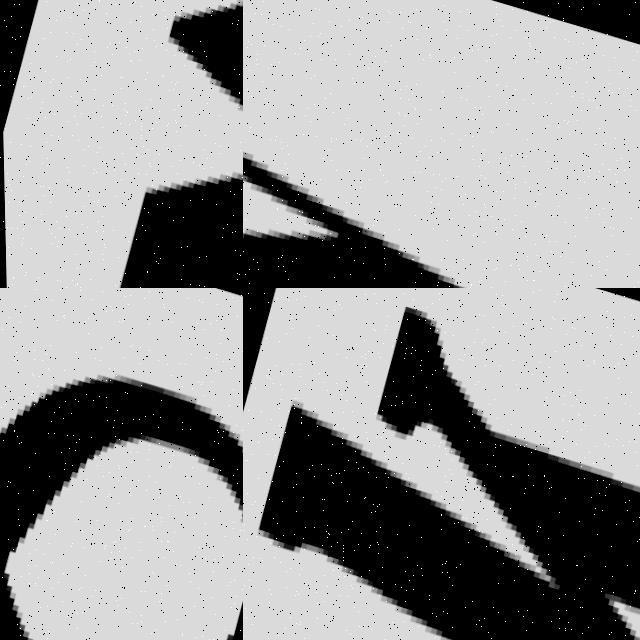8: (0, 288, 243, 640)
K: (243, 288, 640, 640)
W: (72, 0, 243, 288)
Y: (243, 36, 640, 288)
